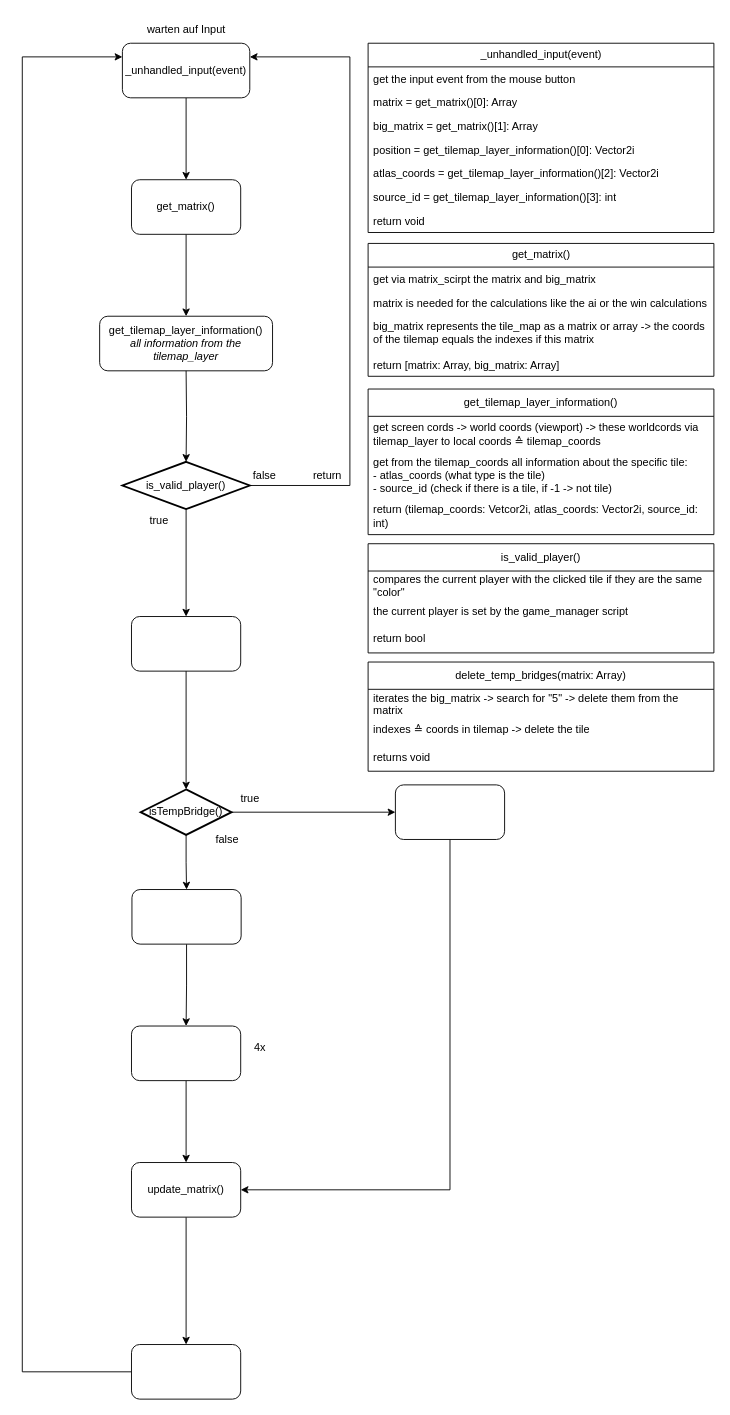
Image size: 730x1415. Some labels were removed from this diagram. Each missing label, with the centre of its shape:
"delete_temp_bridges()" belongs at point 186,643.
"finisch_turn()" belongs at point 186,1371.
"set_bridge() echte Brücke an den Koordinaten setzten" belongs at point 449,811.
"set_temp_bridges() Die temp_bridges an die Koordinaten setzen" belongs at point 186,916.
"try_place_bridge() up, down, left, right" belongs at point 186,1053.
